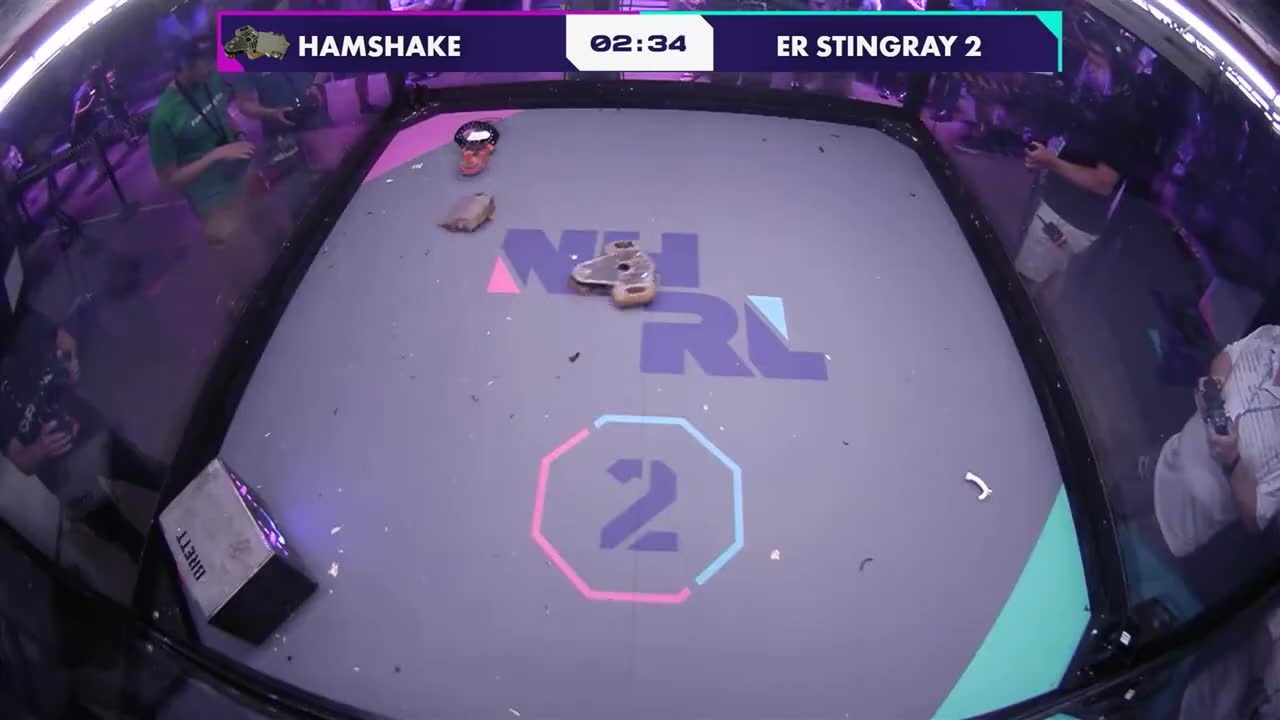combatbot: (569, 238, 659, 312), (450, 120, 503, 177), (438, 191, 497, 235)
housebot: (154, 457, 323, 646)
